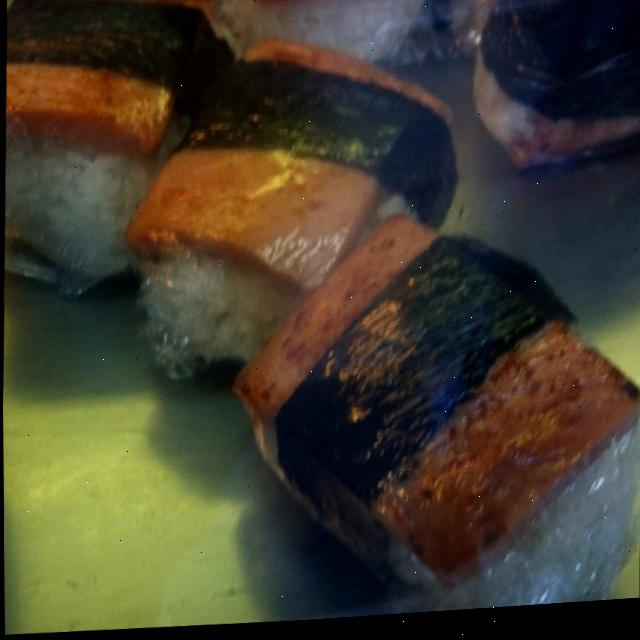寿司卷物: (6, 0, 640, 620)
